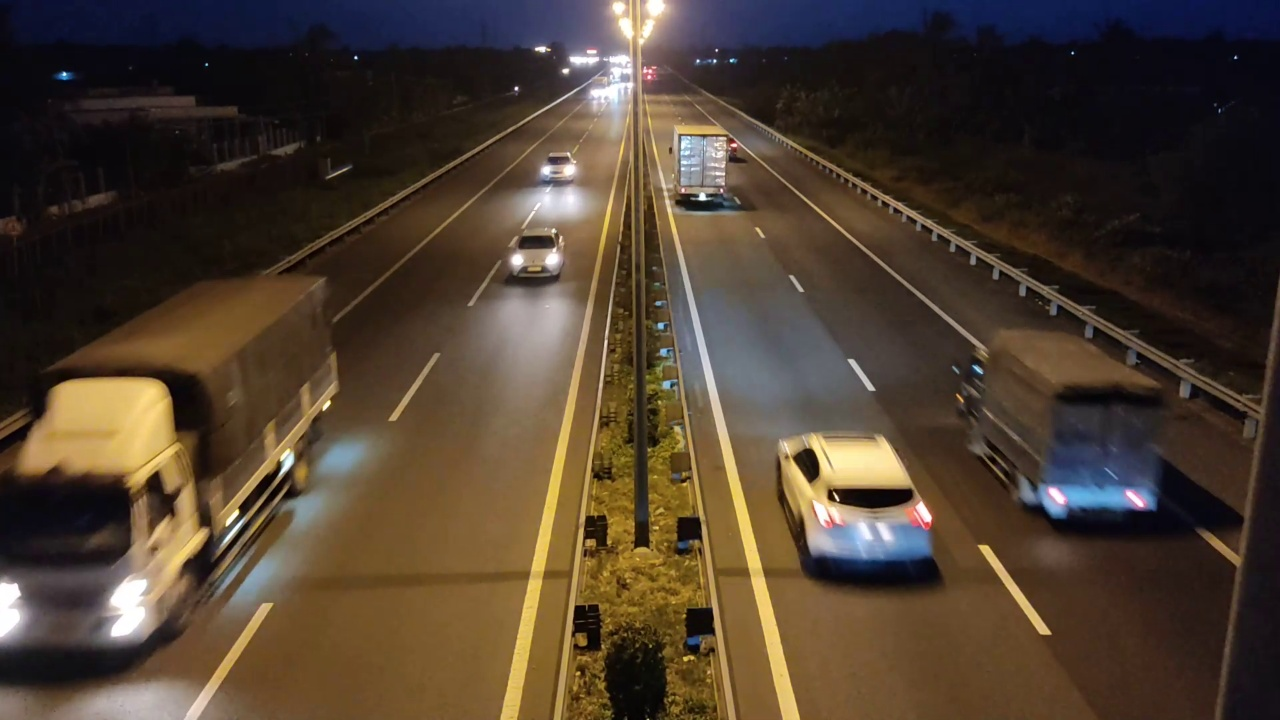car: (775, 429, 939, 583), (504, 227, 566, 283), (538, 151, 578, 185)
truck: (3, 272, 339, 667), (955, 327, 1167, 529), (671, 124, 729, 207)
